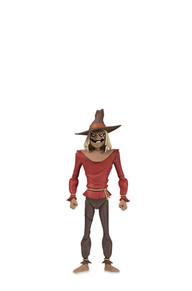person-like: (65, 105, 134, 277)
